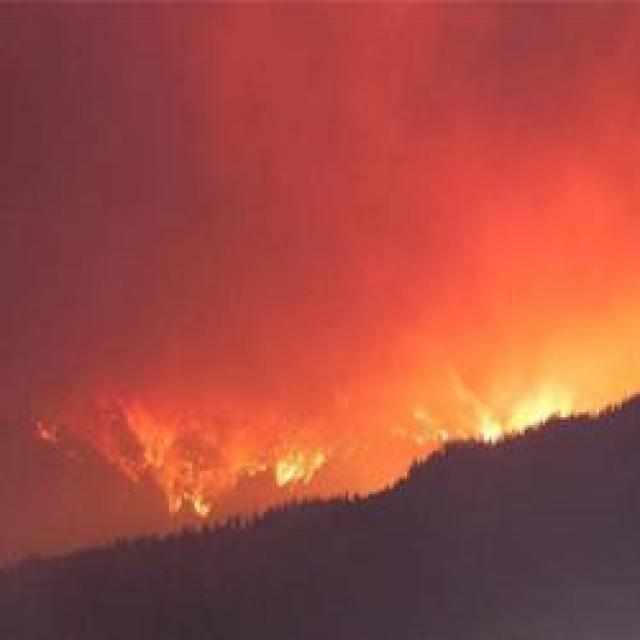fire: (268, 448, 325, 495), (477, 411, 506, 443)
